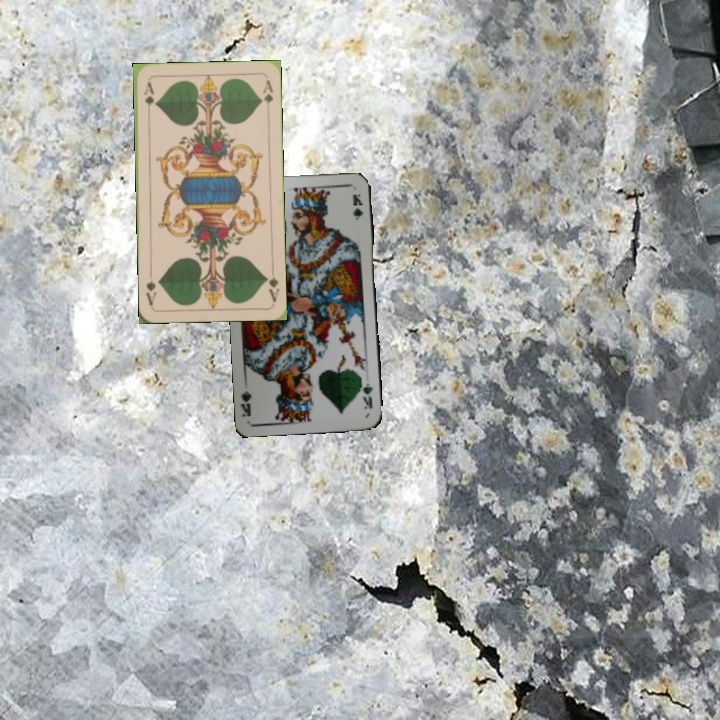GA: (262, 263, 282, 304), (140, 78, 156, 118)
GK: (357, 374, 375, 411)
